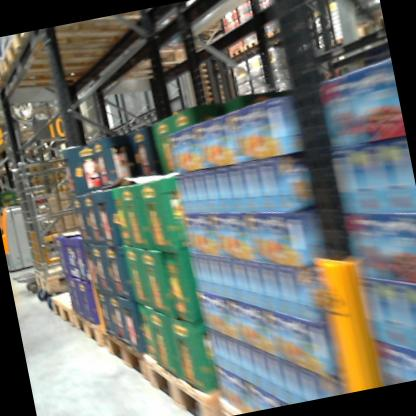pallet: (7, 3, 189, 69), (0, 12, 152, 91), (0, 28, 156, 103), (140, 339, 222, 416), (99, 315, 150, 391), (117, 40, 192, 85), (65, 302, 108, 356), (43, 285, 79, 339), (31, 261, 76, 298), (353, 15, 384, 37), (269, 20, 296, 41), (255, 30, 273, 48), (241, 38, 260, 55), (227, 46, 246, 63)
pallet_truck: (0, 181, 50, 274)
